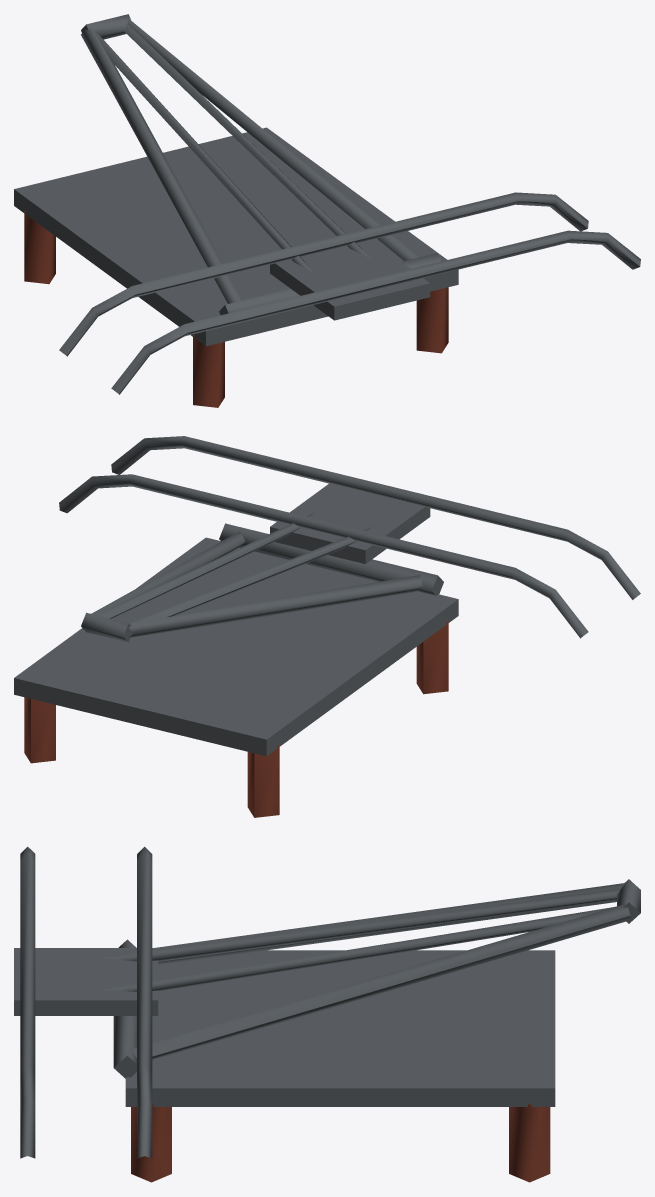
Rendered from pantograph_lod2.glb.
3 views of the same model, one above another, from view 1: azimuth 30°, elevation 25°; view 2: azimuth 150°, elevation 25°; view 3: azimuth 270°, elevation 25° (orthographic). The views are drawn at different scales.
Parts seen in each view (by area): view 1: panto_base, panto_head, panto_lower, panto_upper; view 2: panto_base, panto_head, panto_lower, panto_upper; view 3: panto_base, panto_head, panto_lower, panto_upper.
Part boxes in pixels (<box>): panto_base: <box>14,127,458,407</box>; panto_head: <box>59,192,640,394</box>; panto_lower: <box>81,18,441,315</box>; panto_upper: <box>81,14,371,272</box>; panto_base: <box>14,537,458,817</box>; panto_head: <box>59,436,640,638</box>; panto_lower: <box>91,523,443,639</box>; panto_upper: <box>81,513,371,642</box>; panto_base: <box>125,950,555,1182</box>; panto_head: <box>14,846,158,1158</box>; panto_lower: <box>113,883,630,1078</box>; panto_upper: <box>101,879,640,991</box>.
Bounding box in the file's own units: 1.99 × 0.7132 × 1.82.
